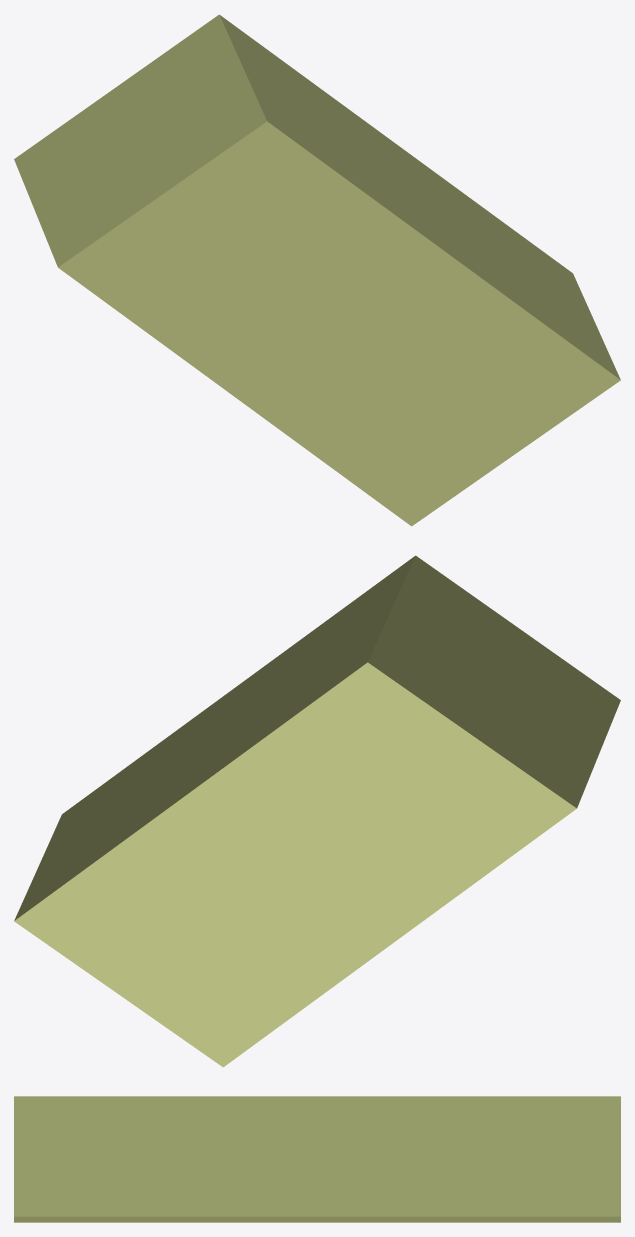
3 renders of one model, top to bottom at view 1: azimuth 30°, elevation 25°; view 2: azimuth 150°, elevation 25°; view 3: azimuth 270°, elevation 25°, orthographic. The views are drawn at different scales.
Parts seen in each view (by area): view 1: 0_2_2_0_0_0_3_1_1_0_2_2; view 2: 0_2_2_0_0_0_3_1_1_0_2_2; view 3: 0_2_2_0_0_0_3_1_1_0_2_2.
Boxes of the visible parts, bbox=[...] form: 0_2_2_0_0_0_3_1_1_0_2_2: bbox=[14, 14, 620, 526]; 0_2_2_0_0_0_3_1_1_0_2_2: bbox=[14, 555, 620, 1067]; 0_2_2_0_0_0_3_1_1_0_2_2: bbox=[14, 1096, 620, 1222].
Size of the model in its own units: 3.72 by 3 by 9.
